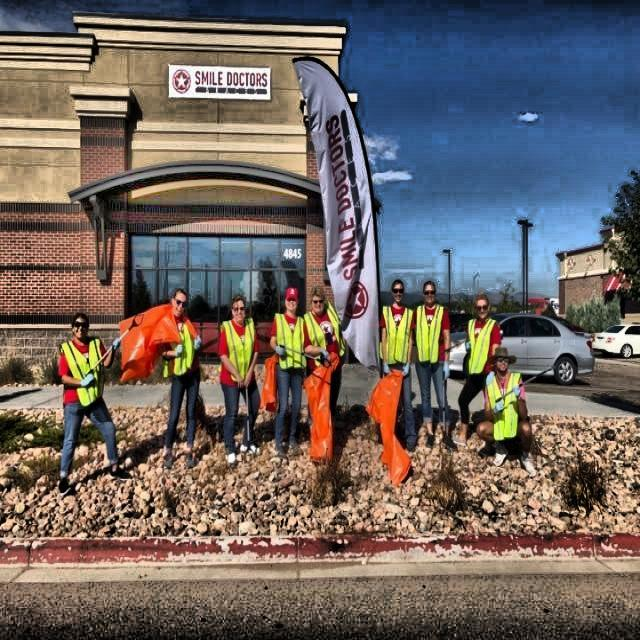safety_jacket: (481, 359, 521, 452), (379, 302, 429, 362), (286, 309, 332, 359), (68, 338, 103, 402), (410, 308, 443, 363), (224, 317, 253, 372), (168, 337, 194, 380)
